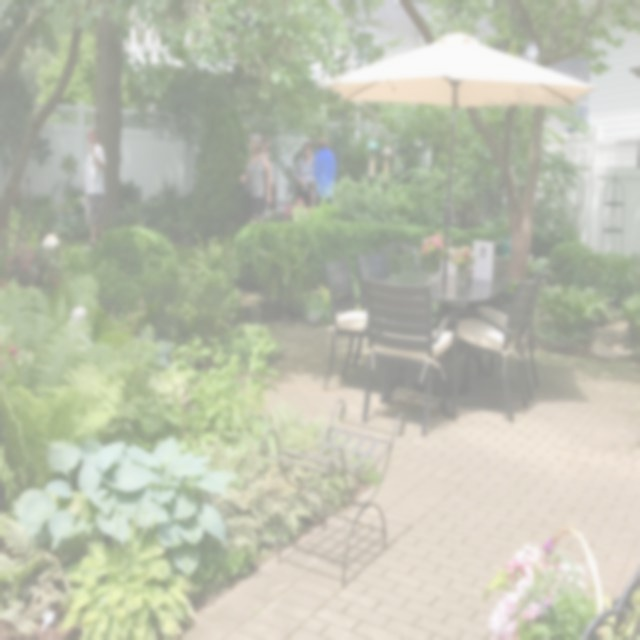pessoa: (82, 126, 108, 252), (239, 132, 272, 225), (248, 134, 272, 224), (310, 136, 338, 207), (292, 140, 318, 210)
